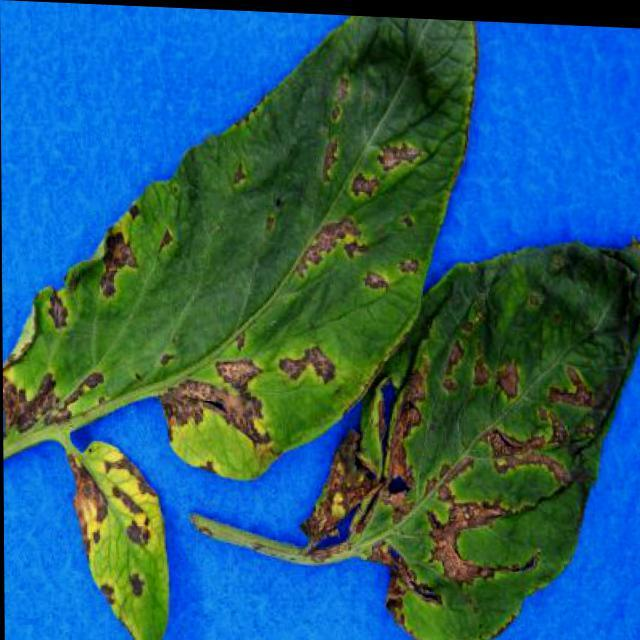Tomato late blight leaf: (2, 1, 494, 512), (314, 213, 639, 639), (52, 437, 182, 639)
